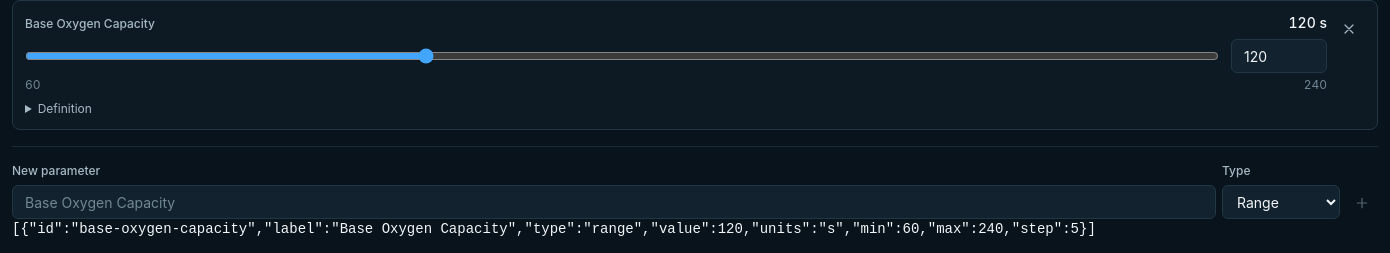
Test case: MechanicParameters › tunes a value by direct entry, not only by the slider
Replace the text in the number field labelled "Base Oxygen Capacity" with "180" at coordinates (1279, 56), box left=1231, top=39, right=1327, bottom=73
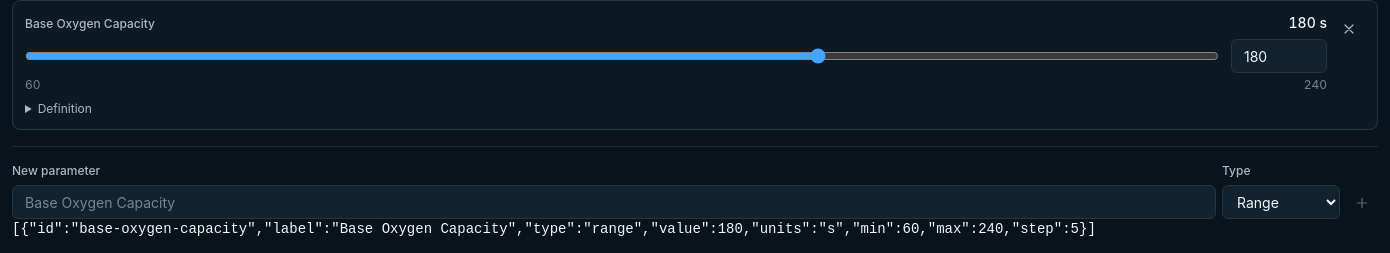
expect the text "180 s" is shown: met, box left=1288, top=13, right=1327, bottom=33
